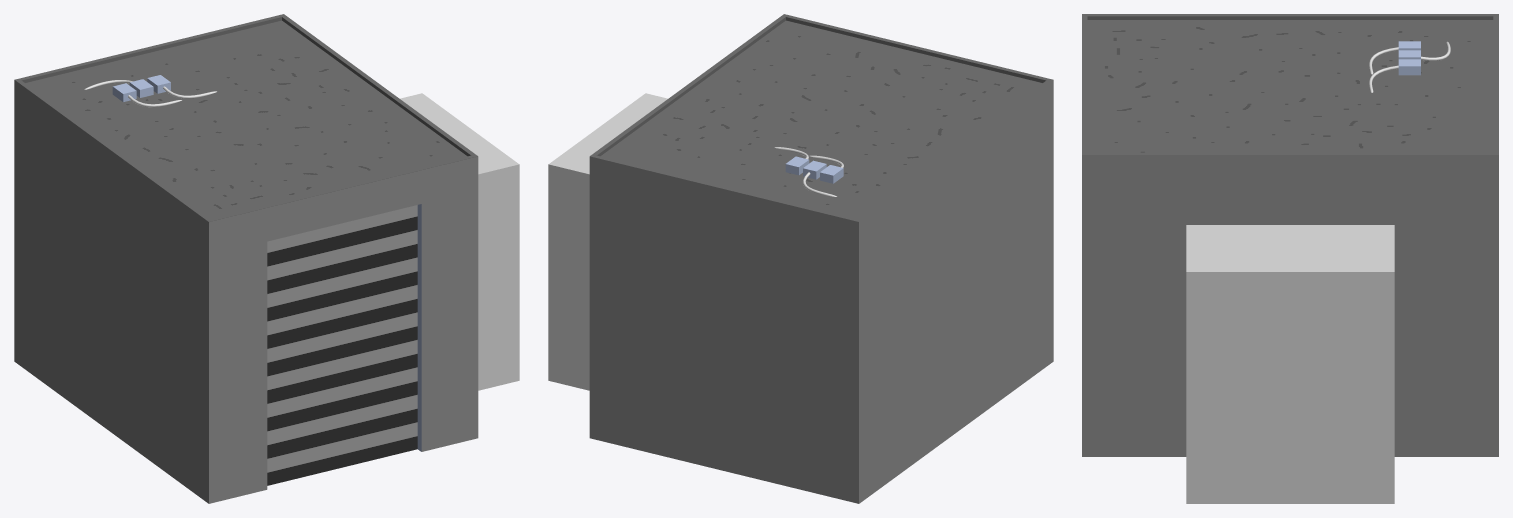
File: vab.fbx
3 views of the same model, side by side, from view 1: azimuth 30°, elevation 25°; view 2: azimuth 150°, elevation 25°; view 3: azimuth 270°, elevation 25° (orthographic). The views are drawn at different scales.
Parts seen in each view (by area): view 1: VAB; view 2: VAB; view 3: VAB.
Part boxes in pixels (x1=…): VAB: x1=14, y1=14, x2=519, y2=503; VAB: x1=548, y1=14, x2=1053, y2=503; VAB: x1=1082, y1=14, x2=1498, y2=503.
Bounding box in the file's own units: 800 × 610 × 750.
